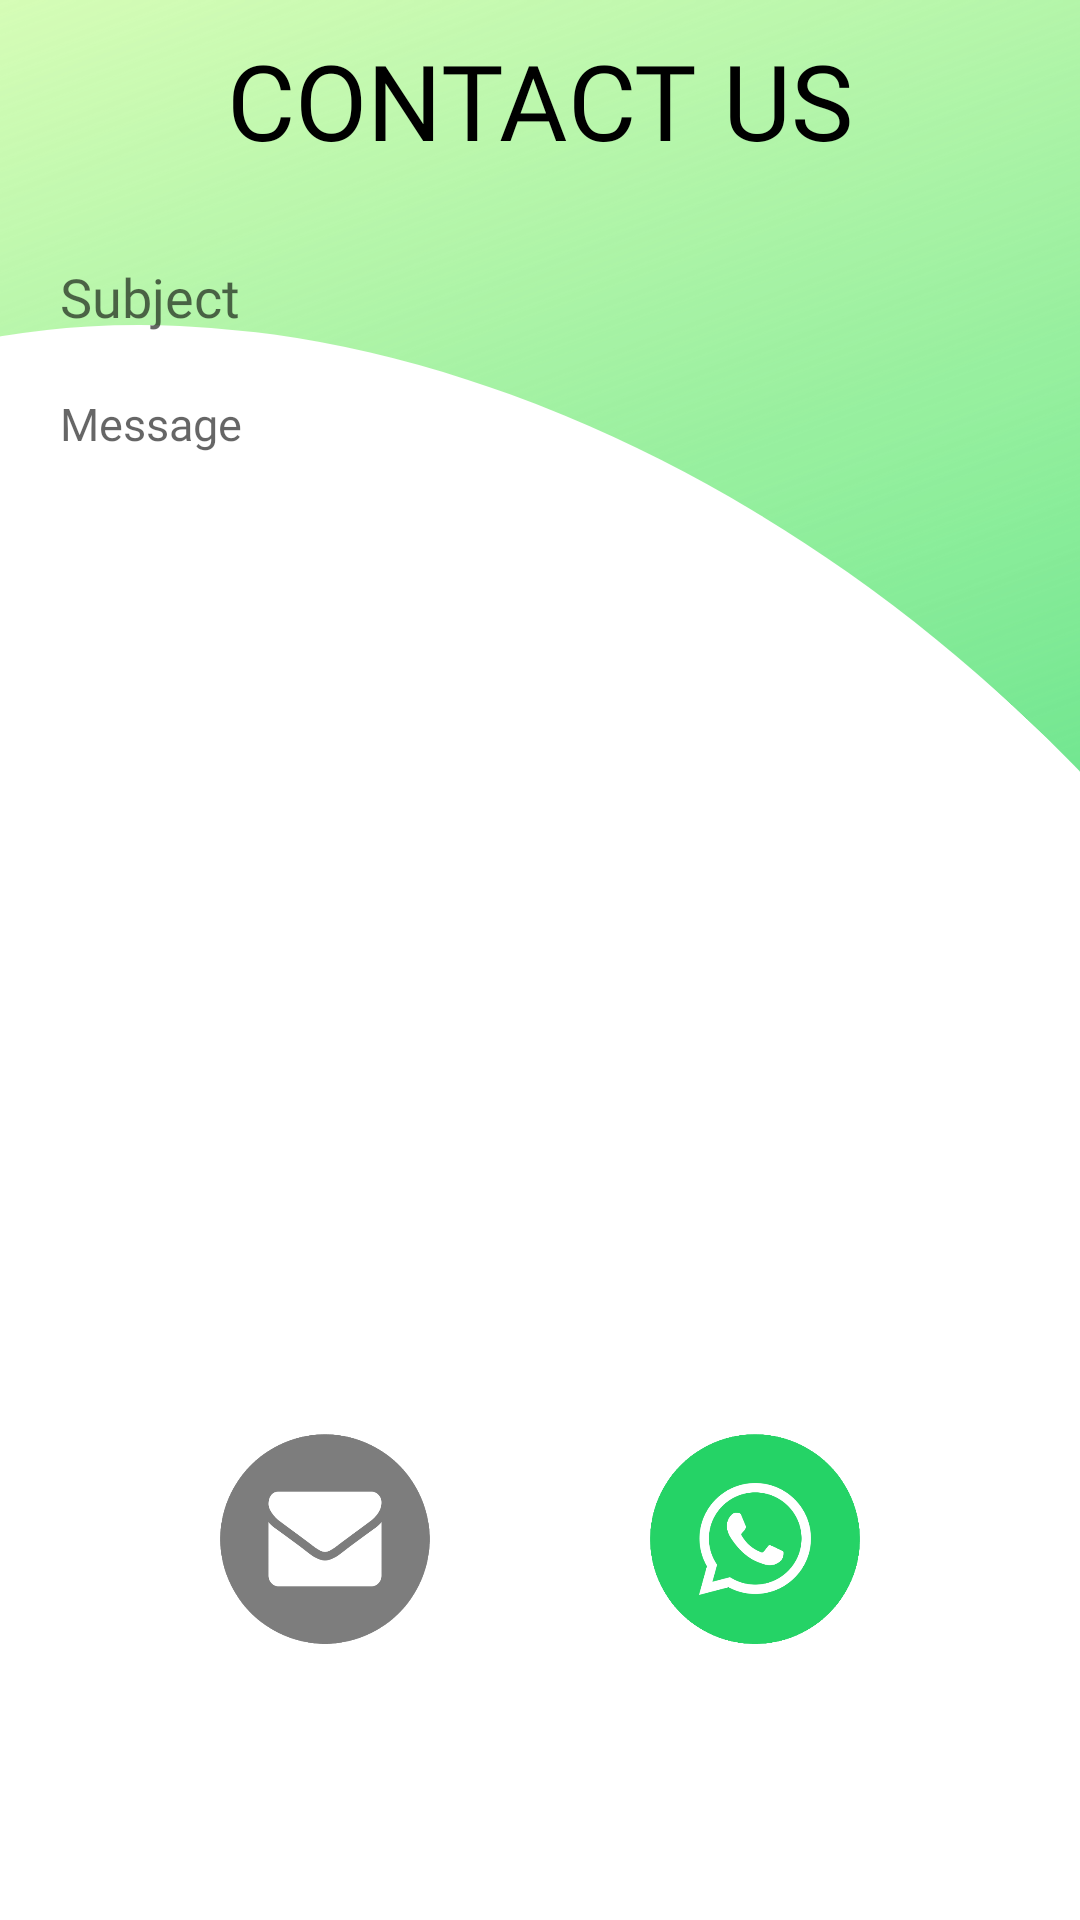

Point at icon controls on the screen. Image size 1080*1920, points as [x,y].
email: [325,1539]
